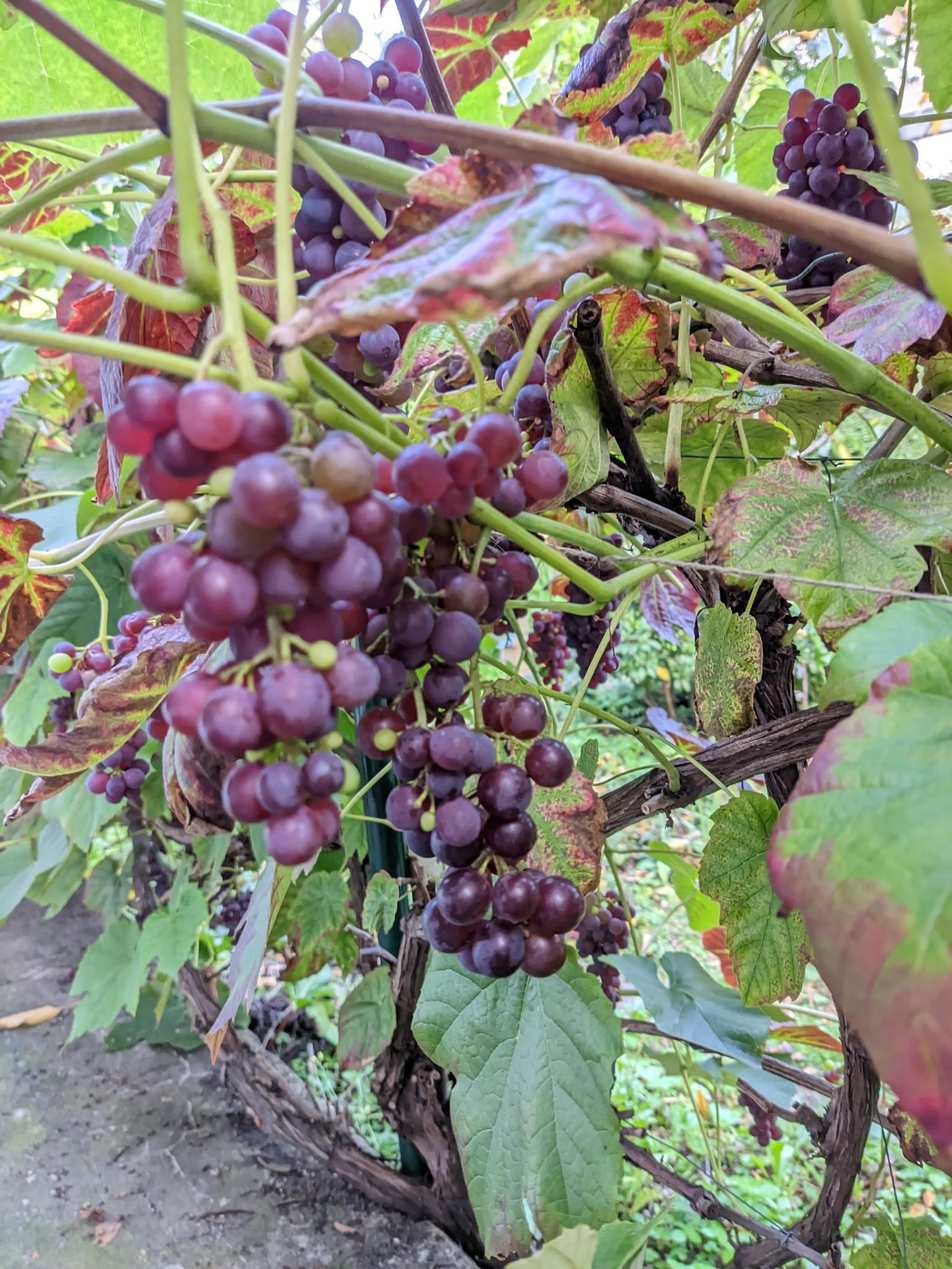Grape Ripe: (109, 376, 491, 868), (358, 705, 571, 866), (775, 84, 894, 295), (304, 0, 431, 114), (293, 160, 374, 295), (577, 37, 672, 148), (476, 877, 579, 978), (323, 121, 426, 168), (527, 609, 574, 692), (344, 177, 395, 227), (248, 8, 295, 53), (325, 338, 360, 371)
